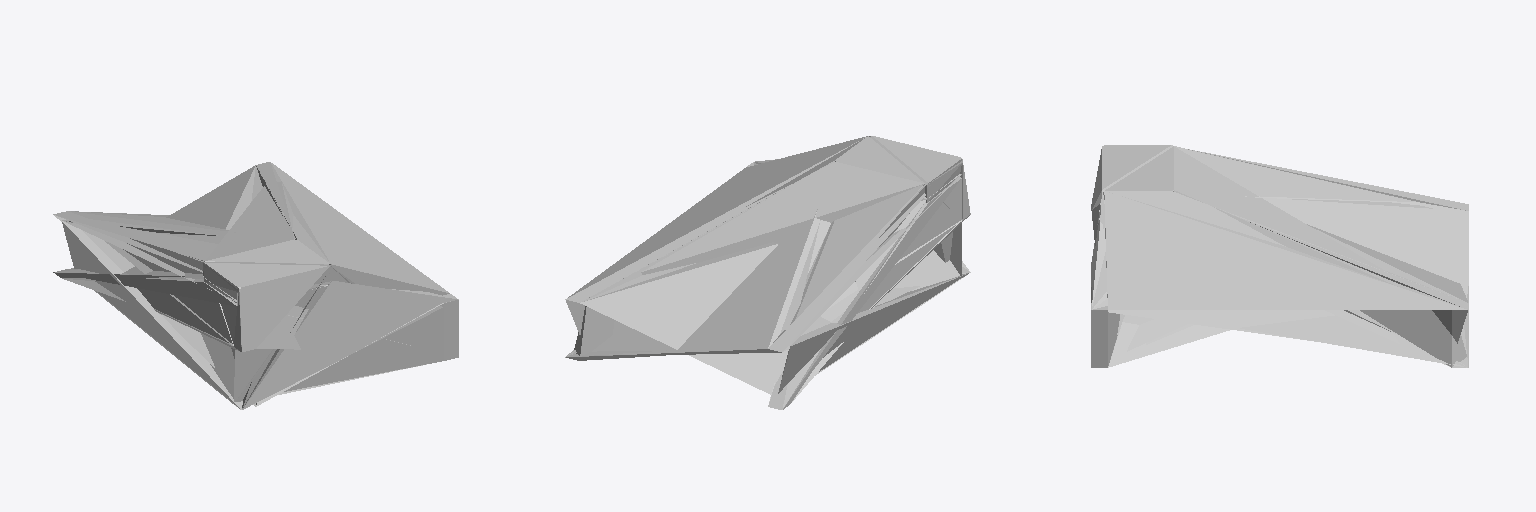
File: Bed.obj
The picture shows the model from 3 angles: view 1: azimuth 30°, elevation 25°; view 2: azimuth 150°, elevation 25°; view 3: azimuth 270°, elevation 25°; orthographic projection.
Visible parts, largest first — view 1: Box002, Box001; view 2: Box001, Box002; view 3: Box002, Box001, Box005.
Boxes of the visible parts, x1=… form: Box002: x1=53, y1=162, x2=457, y2=409; Box001: x1=54, y1=165, x2=458, y2=409; Box001: x1=565, y1=136, x2=968, y2=409; Box002: x1=565, y1=136, x2=970, y2=409; Box002: x1=1091, y1=145, x2=1468, y2=367; Box001: x1=1091, y1=147, x2=1468, y2=367; Box005: x1=1091, y1=304, x2=1107, y2=367.
Size of the model in its own units: 290671 by 151011 by 437459.